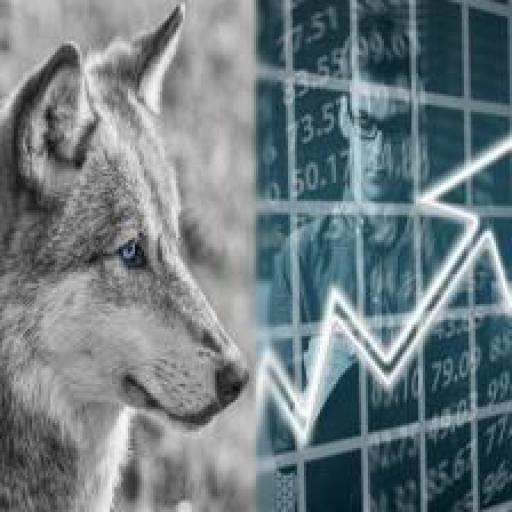wolf: (0, 0, 251, 512)
